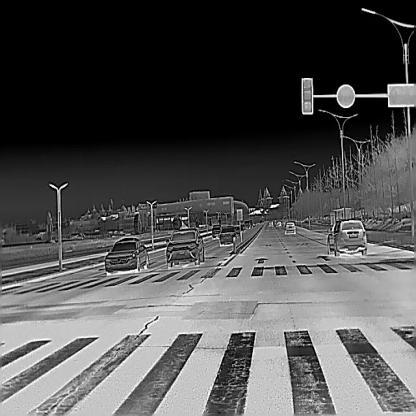car: (104, 236, 148, 273), (327, 218, 368, 256), (165, 228, 204, 267), (219, 226, 235, 245), (230, 225, 243, 238), (211, 224, 222, 239), (284, 220, 295, 233), (276, 220, 282, 226), (268, 220, 273, 227)
